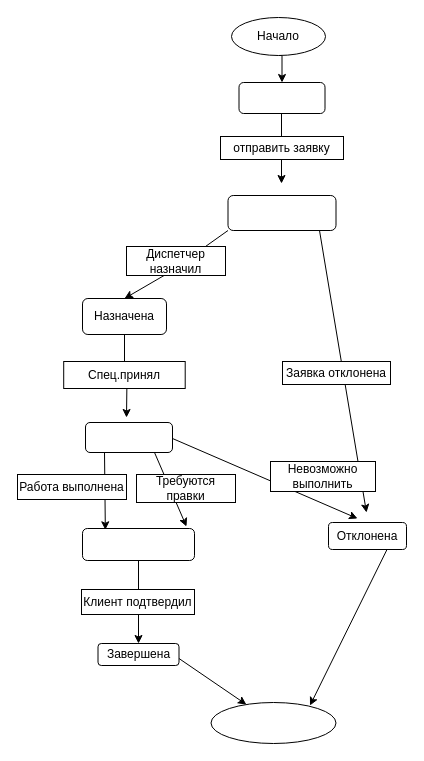
Image size: 424x761. Some labels were removed from this diagram. Here are the shapes that lost their labels. From the top down, the centre of each, then its label:
pixel 281 98: Черновик
pixel 281 212: На рассмотрении
pixel 128 437: В работе
pixel 138 544: На проверке
pixel 273 723: конец
